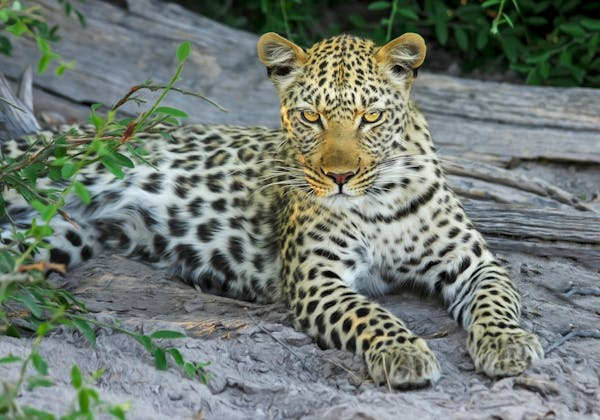Leopard: (1, 31, 546, 390)
